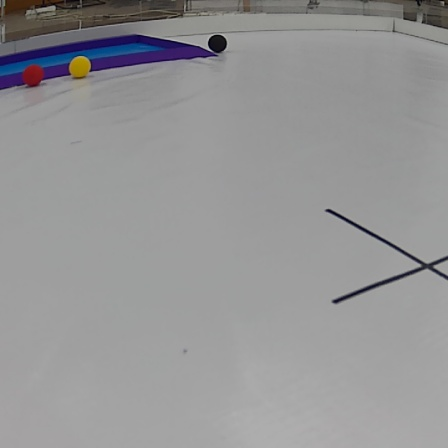black: (205, 34, 229, 53)
blue_aim: (0, 32, 222, 93)
red: (21, 64, 42, 85)
yellow: (69, 55, 91, 78)
